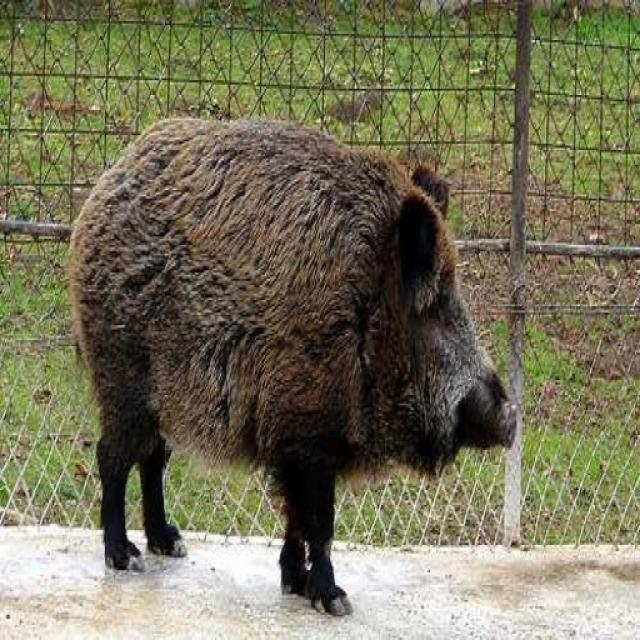pig: (69, 0, 556, 629)
